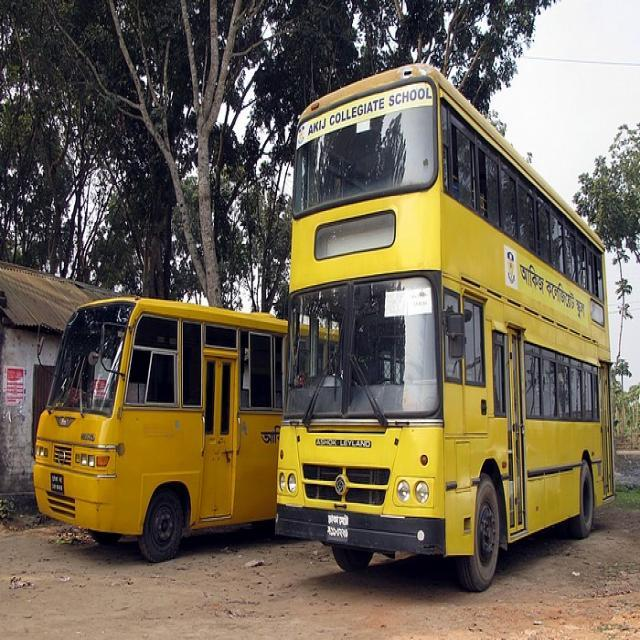bus: (275, 60, 616, 593), (33, 296, 284, 564)
